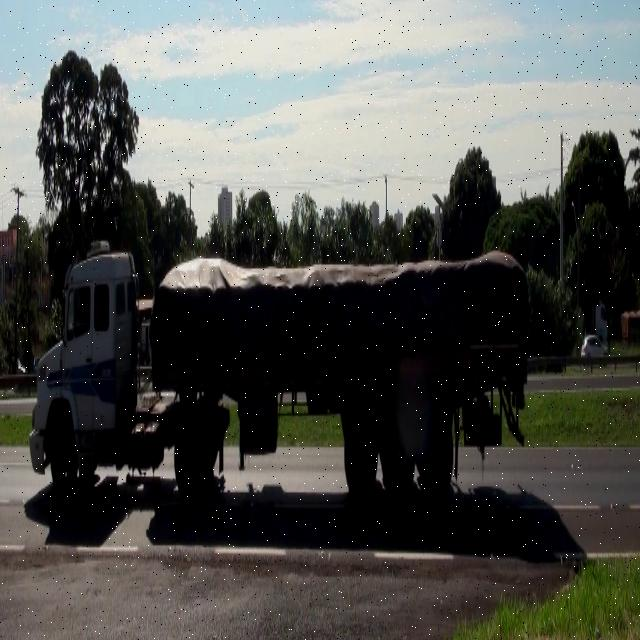-axle: (421, 415, 454, 503), (344, 415, 376, 502), (381, 419, 414, 499), (170, 426, 203, 502), (48, 419, 78, 498)
